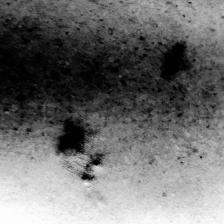Potentially Malignant Skin Tumors: (56, 120, 114, 208), (164, 44, 192, 80)
